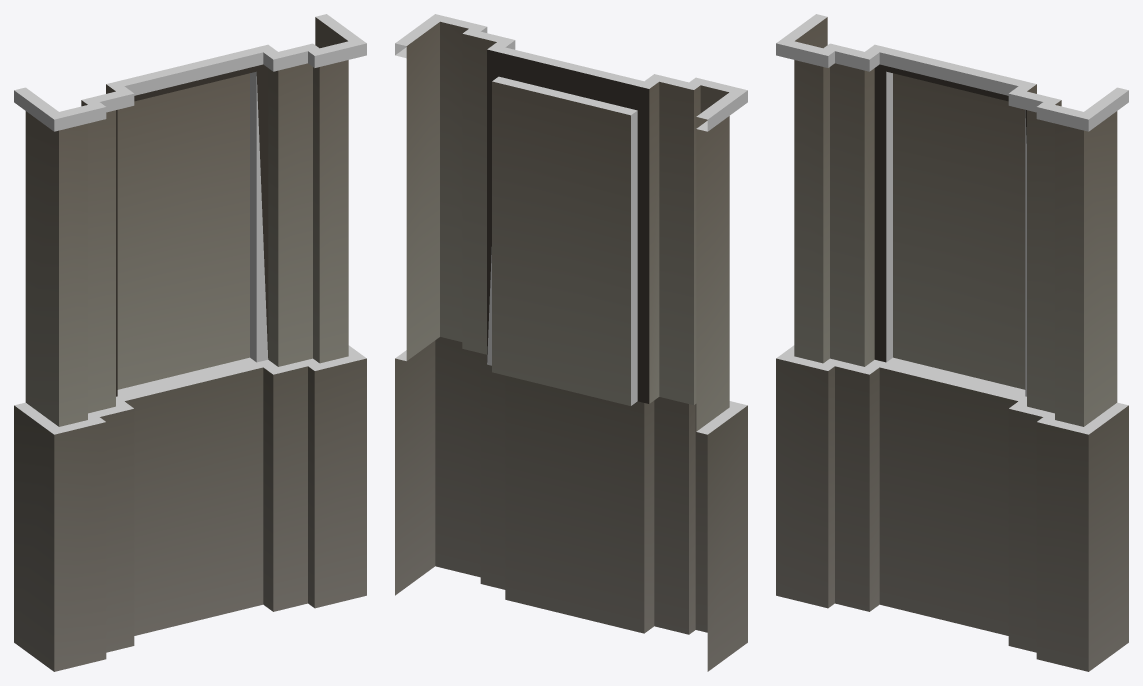
File: Front_11.fbx
3 renders of one model, left to right at view 1: azimuth 30°, elevation 25°; view 2: azimuth 150°, elevation 25°; view 3: azimuth 330°, elevation 25°, orthographic.
Parts seen in each view (by area): view 1: Front_I.001, Front_I.003, Front_I.004, Front_I.008, Front_I.002, Front_I.009, Front_I.005, Front_I.006; view 2: Front_I.001, Front_I.003, Front_I.004, Front_I.009, Front_I.005, Front_I.008, Front_I.002; view 3: Front_I.001, Front_I.003, Front_I.004, Front_I.008, Front_I.002, Front_I.009, Front_I.005, Front_I.006.
Part boxes in pixels (x1,y1,x2,y2): Front_I.001: (14,358,366,671); Front_I.003: (25,17,348,426); Front_I.004: (117,73,249,389); Front_I.008: (14,43,366,131); Front_I.002: (14,345,366,434); Front_I.009: (14,14,366,119); Front_I.005: (250,71,256,362); Front_I.006: (256,76,268,362); Front_I.001: (395,337,747,671); Front_I.003: (406,21,729,431); Front_I.004: (492,81,630,405); Front_I.009: (395,14,747,119); Front_I.005: (492,76,637,405); Front_I.008: (395,27,747,131); Front_I.002: (395,350,747,434); Front_I.001: (776,358,1128,671); Front_I.003: (794,17,1117,426); Front_I.004: (893,73,1025,389); Front_I.008: (776,43,1128,131); Front_I.002: (776,345,1128,434); Front_I.009: (776,14,1128,119); Front_I.005: (886,71,892,362); Front_I.006: (1025,110,1026,396).
Bounding box in the file's own units: 270 × 456 × 60.
